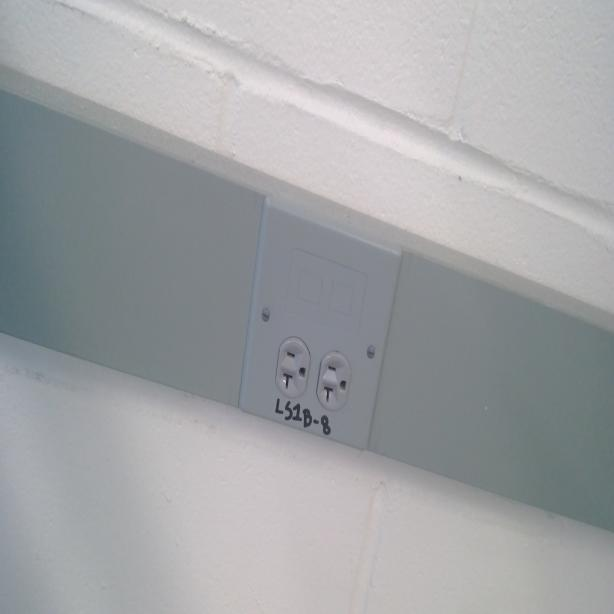typeb: (275, 337, 311, 406), (319, 350, 351, 409)
